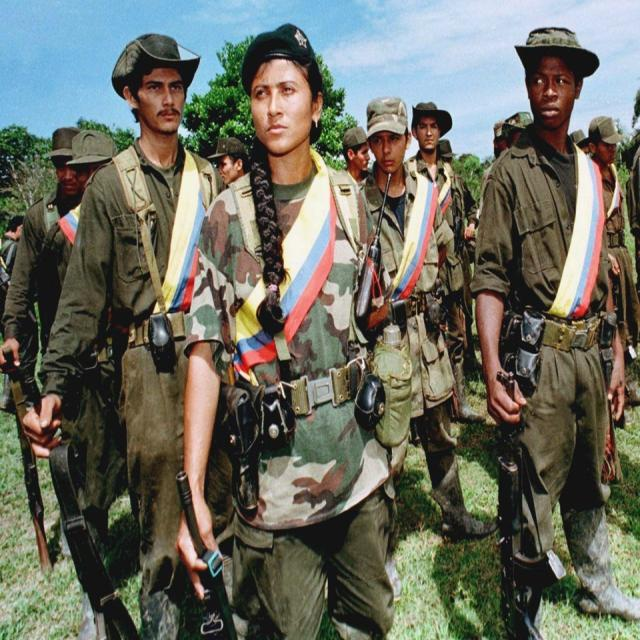body: (172, 19, 403, 640), (18, 31, 228, 639), (467, 21, 639, 639), (33, 127, 120, 639), (388, 421, 534, 639), (402, 98, 489, 447), (403, 98, 488, 426), (0, 123, 81, 378), (586, 114, 640, 412), (436, 138, 481, 374), (571, 118, 639, 253), (0, 212, 37, 418), (472, 110, 533, 234), (607, 450, 639, 544), (204, 136, 250, 189), (341, 125, 374, 192), (438, 133, 454, 171)
